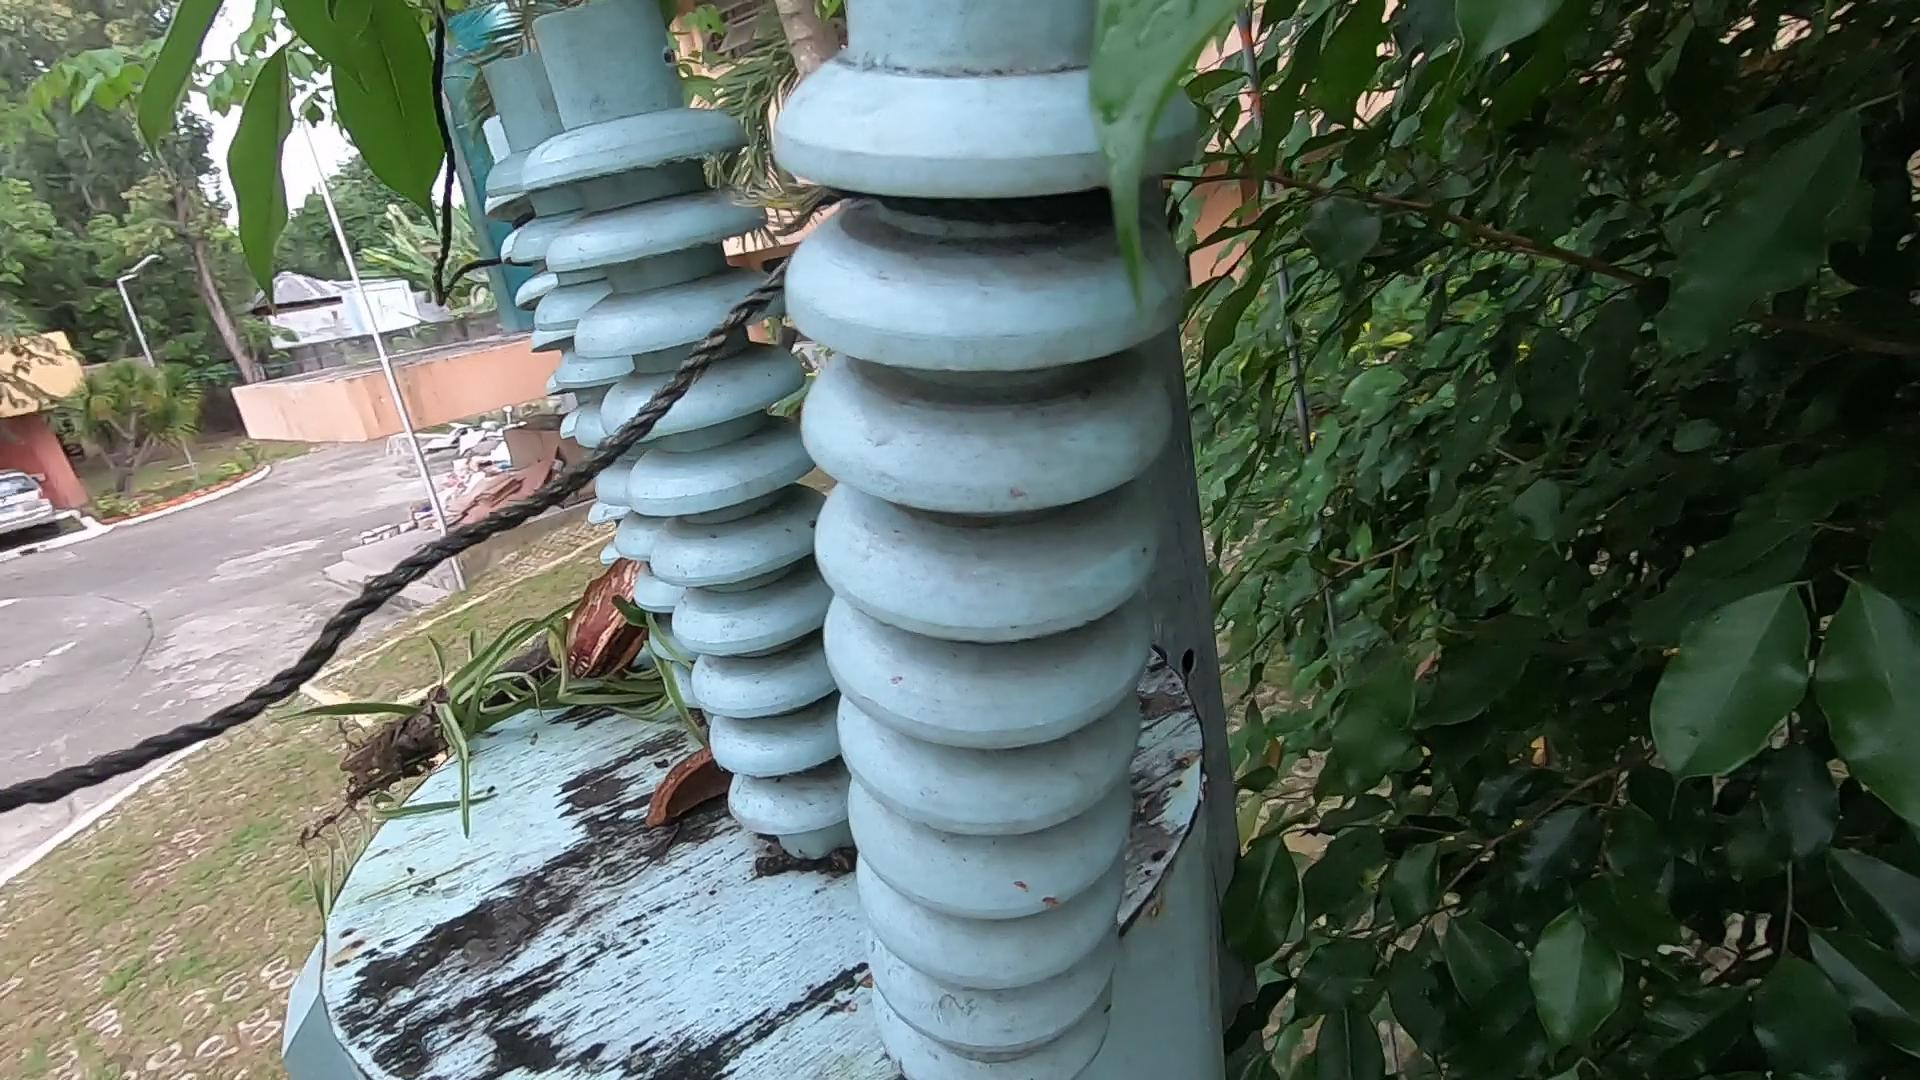branch with leaves: (320, 465, 731, 873)
mahogany fruit: (531, 524, 698, 717), (647, 690, 753, 851)
